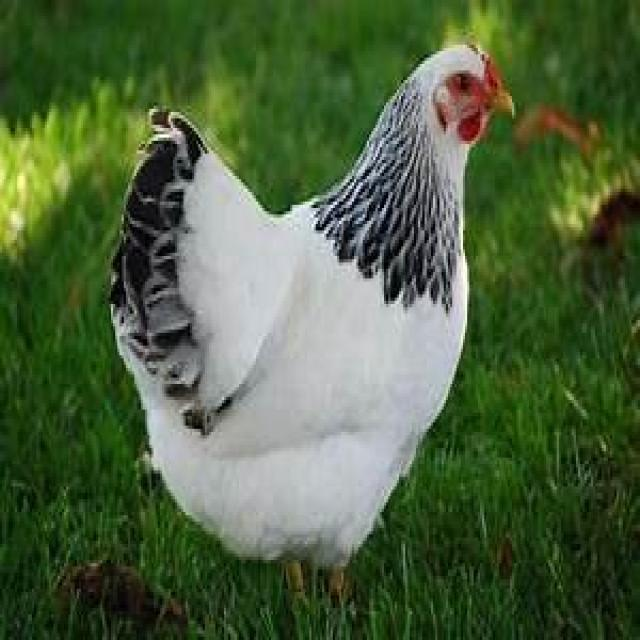animal: (111, 44, 520, 592)
